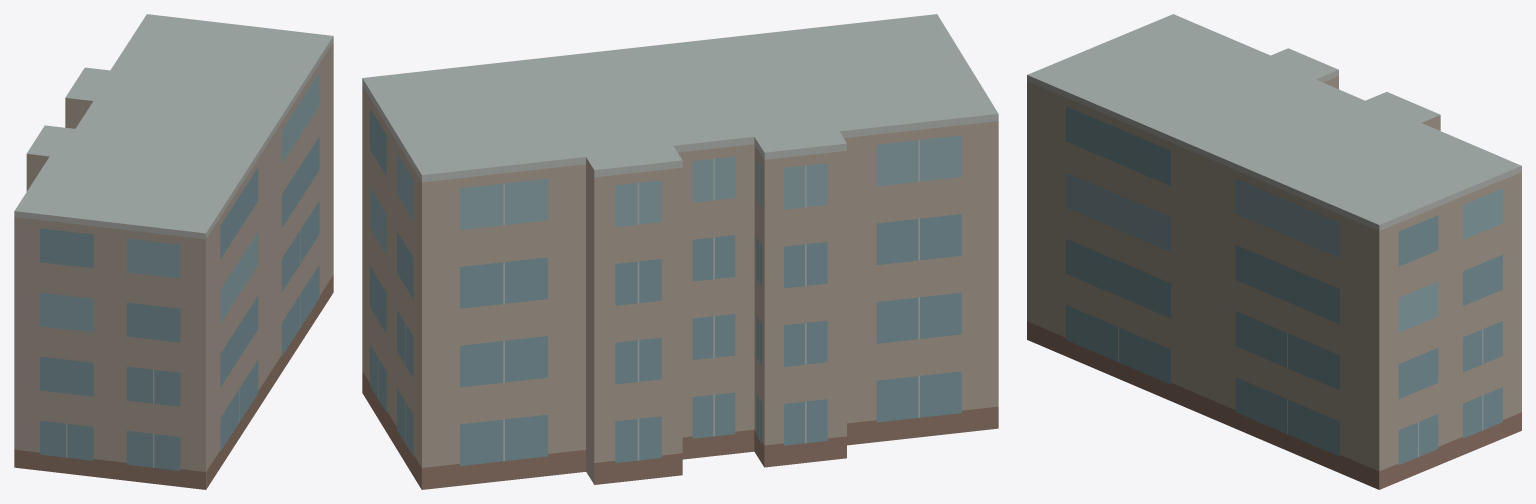
Rendered from survey-upis-32830405.glb.
3 renders of one model, left to right at view 1: azimuth 30°, elevation 25°; view 2: azimuth 150°, elevation 25°; view 3: azimuth 270°, elevation 25°, orthographic. The views are drawn at different scales.
Parts seen in each view (by area): view 1: survey-upis-32830405.tmp; view 2: survey-upis-32830405.tmp; view 3: survey-upis-32830405.tmp.
Part boxes in pixels (x1,y1,x2,y2): survey-upis-32830405.tmp: (14,14,333,489); survey-upis-32830405.tmp: (362,14,998,489); survey-upis-32830405.tmp: (1027,14,1521,489).
Bounding box in the file's own units: 18.12 × 10.6 × 17.95.
